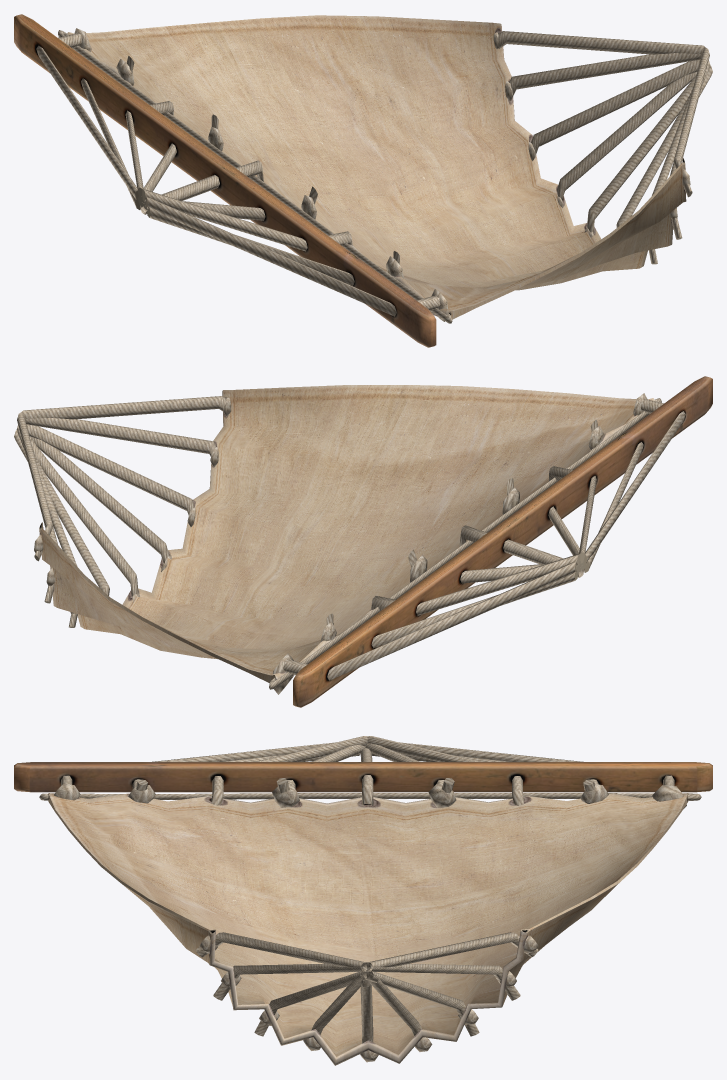
File: Hammock.fbx
3 views of the same model, one above another, from view 1: azimuth 30°, elevation 25°; view 2: azimuth 150°, elevation 25°; view 3: azimuth 270°, elevation 25° (orthographic). The views are drawn at different scales.
Parts seen in each view (by area): view 1: hammock; view 2: hammock; view 3: hammock.
Boxes of the visible parts, left/top/right/bottom form: hammock: left=14, top=14, right=712, bottom=347; hammock: left=14, top=376, right=712, bottom=707; hammock: left=14, top=736, right=712, bottom=1065.
Size of the model in its own units: 99.89 by 128 by 31.12.
